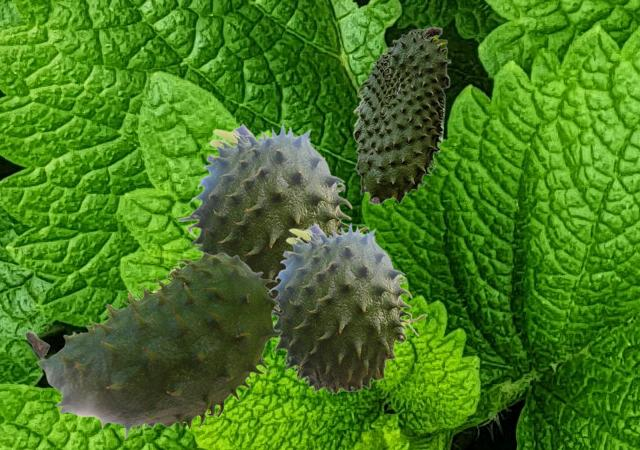guyabano: (24, 252, 282, 439), (177, 121, 369, 297), (268, 221, 427, 394), (352, 26, 450, 204)
